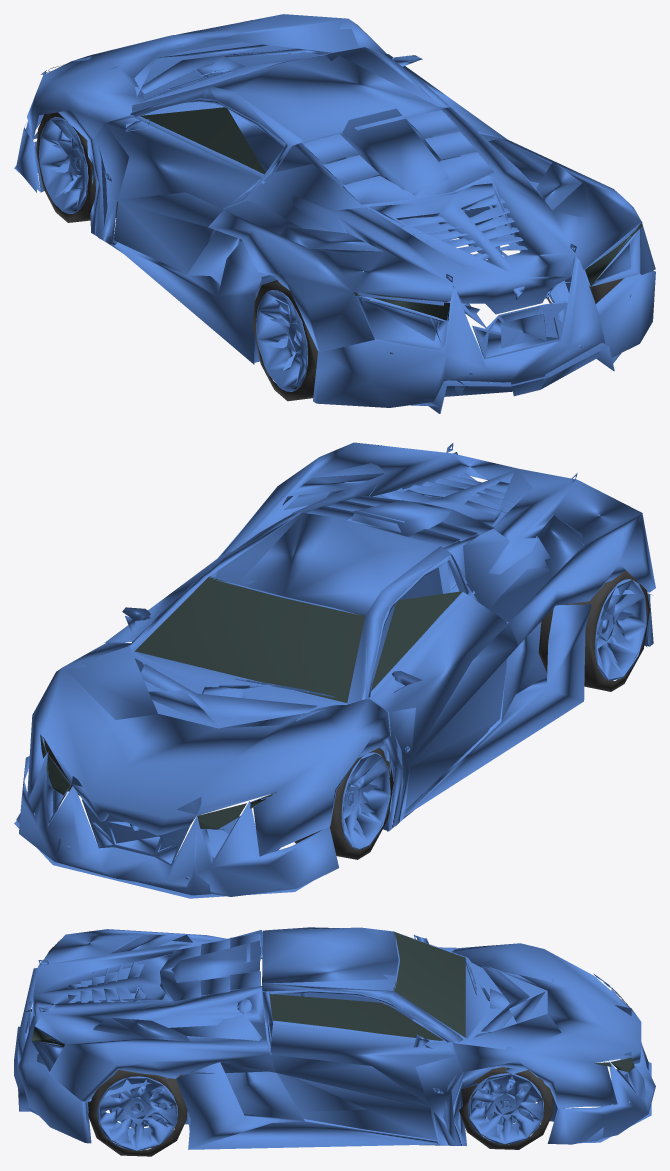
File: goblin_lod.glb
3 views of the same model, one above another, from view 1: azimuth 30°, elevation 25°; view 2: azimuth 150°, elevation 25°; view 3: azimuth 270°, elevation 25° (orthographic). The views are drawn at different scales.
Visible parts, largest first — view 1: clearcoat, car_body, car_wheel_BL, car_wheel_FL, car_glass, car_wheel_BR; view 2: clearcoat, car_body, car_glass, car_wheel_BL, car_wheel_FL; view 3: clearcoat, car_body, car_glass, car_wheel_BR, car_wheel_FR.
Part boxes in pixels (x1,y1,x2,y2): clearcoat: (16,14,655,407); car_body: (14,19,641,413); car_wheel_BL: (253,280,318,401); car_wheel_FL: (36,112,117,222); car_glass: (41,20,642,321); car_wheel_BR: (547,276,624,303); clearcoat: (19,442,655,896); car_body: (14,443,652,898); car_glass: (40,444,462,829); car_wheel_BL: (538,570,649,691); car_wheel_FL: (294,747,393,859); clearcoat: (17,927,655,1149); car_body: (14,927,651,1149); car_glass: (31,931,634,1072); car_wheel_BR: (87,1070,187,1156); car_wheel_FR: (459,1067,553,1149).
Bounding box in the file's own units: 0.0565 × 0.0296 × 0.1178.
